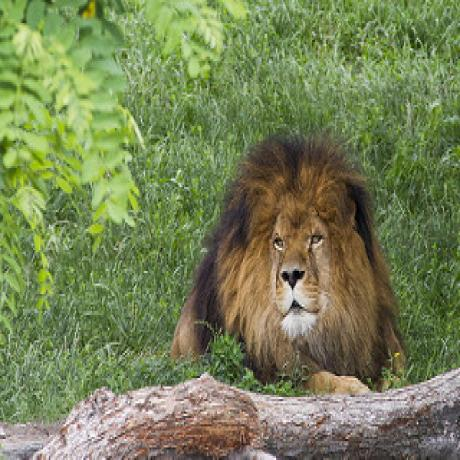Lion: (174, 128, 406, 403)
